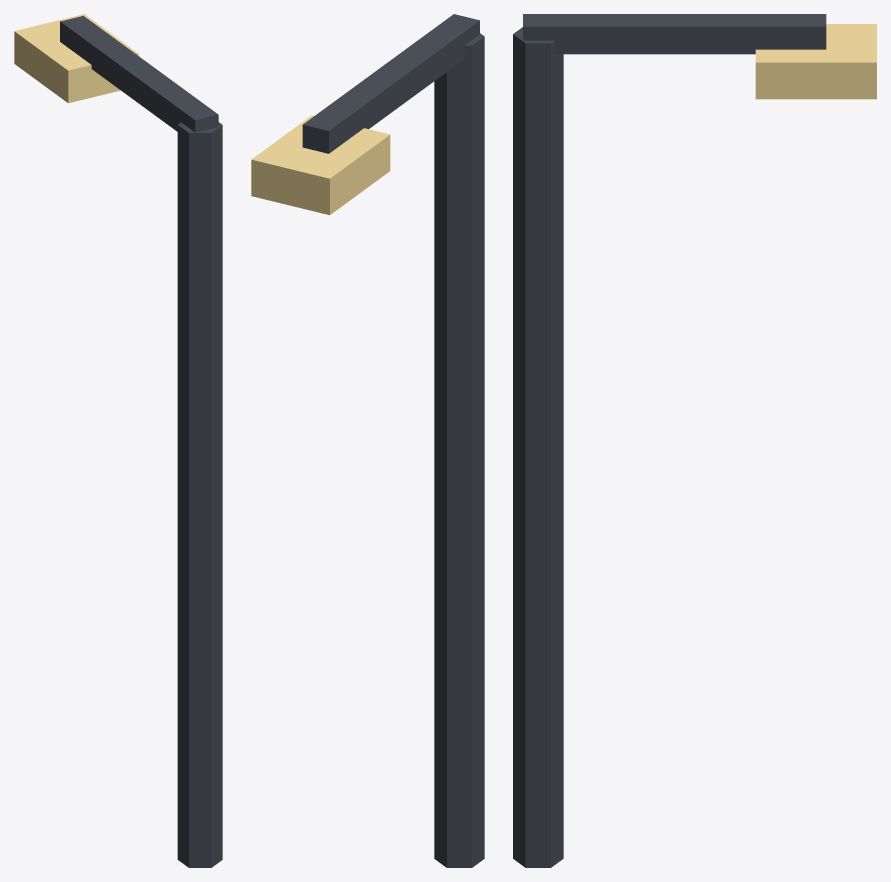
File: street_light.glb
The picture shows the model from 3 angles, left to right: view 1: azimuth 30°, elevation 25°; view 2: azimuth 150°, elevation 25°; view 3: azimuth 270°, elevation 25°; orthographic projection. The views are drawn at different scales.
Parts seen in each view (by area): view 1: street_light; view 2: street_light; view 3: street_light.
Part boxes in pixels (left/top/right/bottom): street_light: left=14, top=14, right=222, bottom=867; street_light: left=251, top=14, right=484, bottom=867; street_light: left=513, top=14, right=876, bottom=867.
Size of the model in its own units: 0.18 by 1.83 by 0.72.
Materials: 1 (1 with a texture image).
